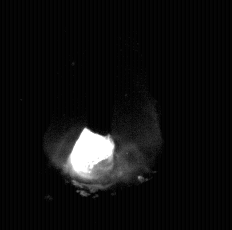arame: (88, 0, 112, 136)
poca: (43, 0, 161, 230)
